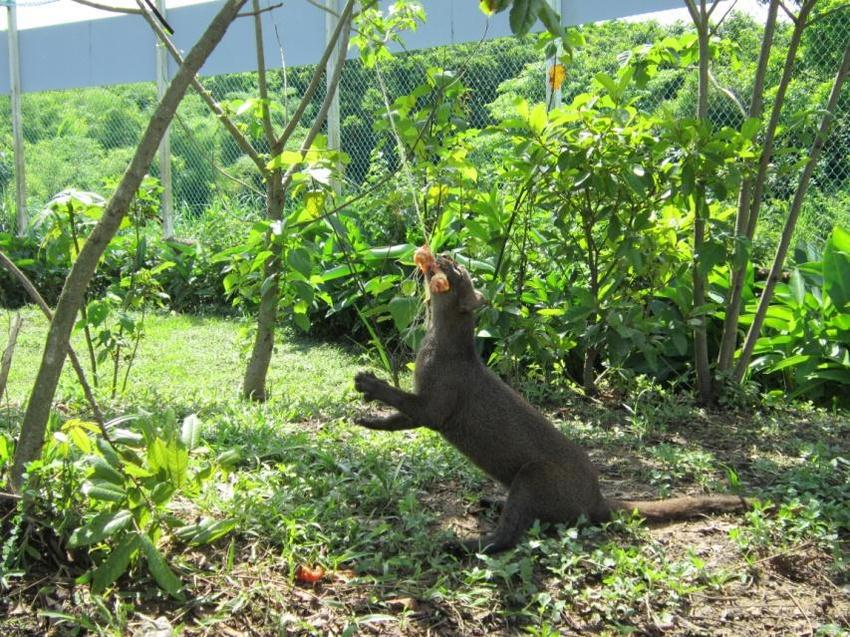Jaguarundi: (345, 251, 766, 559)
